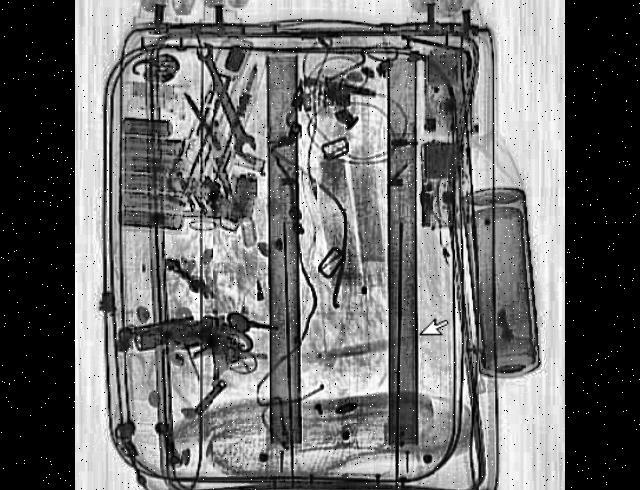Wrench: (188, 36, 258, 166)
